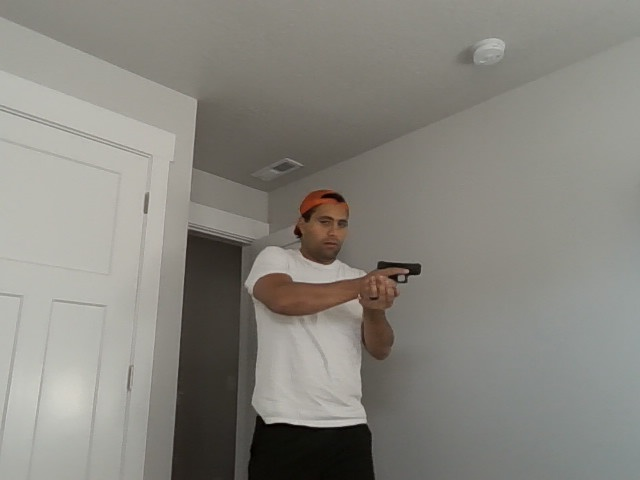handgun: (375, 259, 422, 284)
